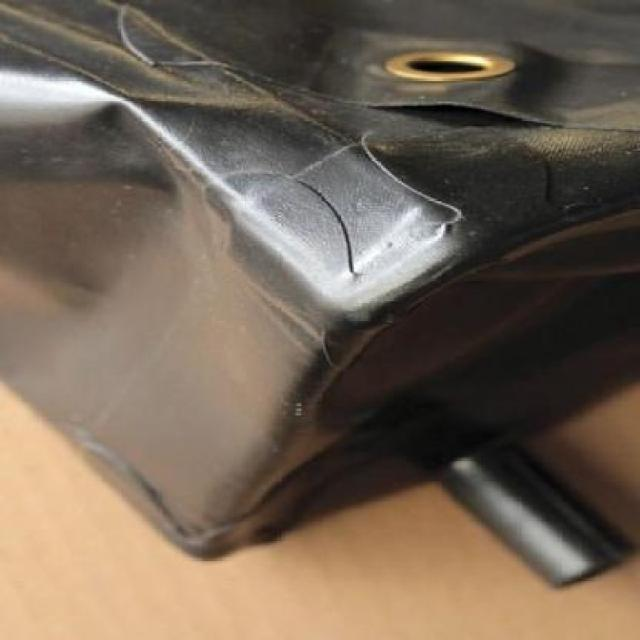crack: (280, 168, 369, 284)
